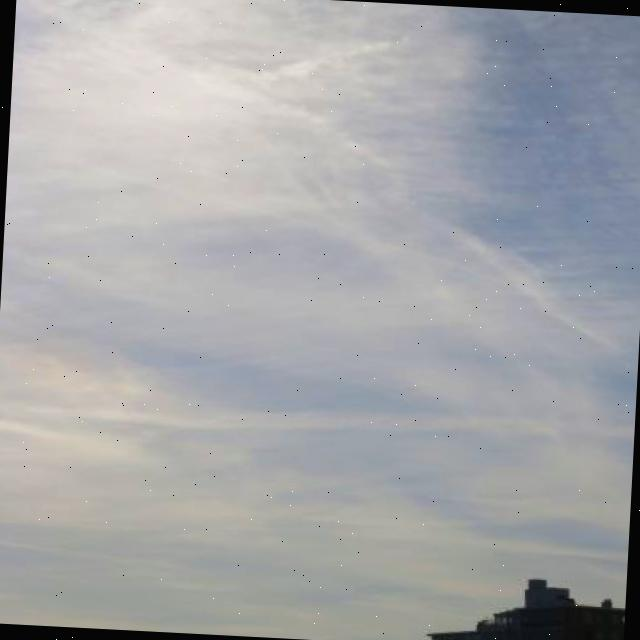Ct: (1, 39, 640, 577)
